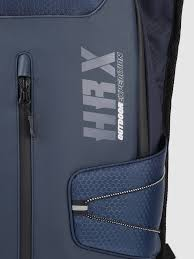backpack: (0, 0, 185, 258)
